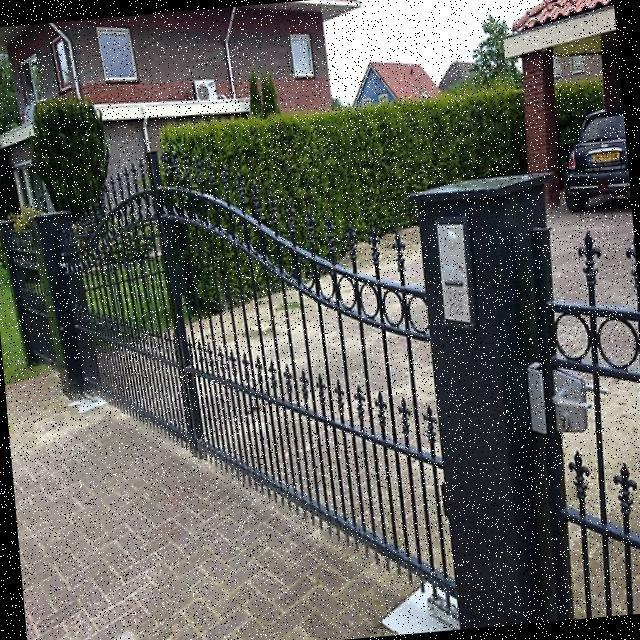fence line: (31, 146, 457, 639)
